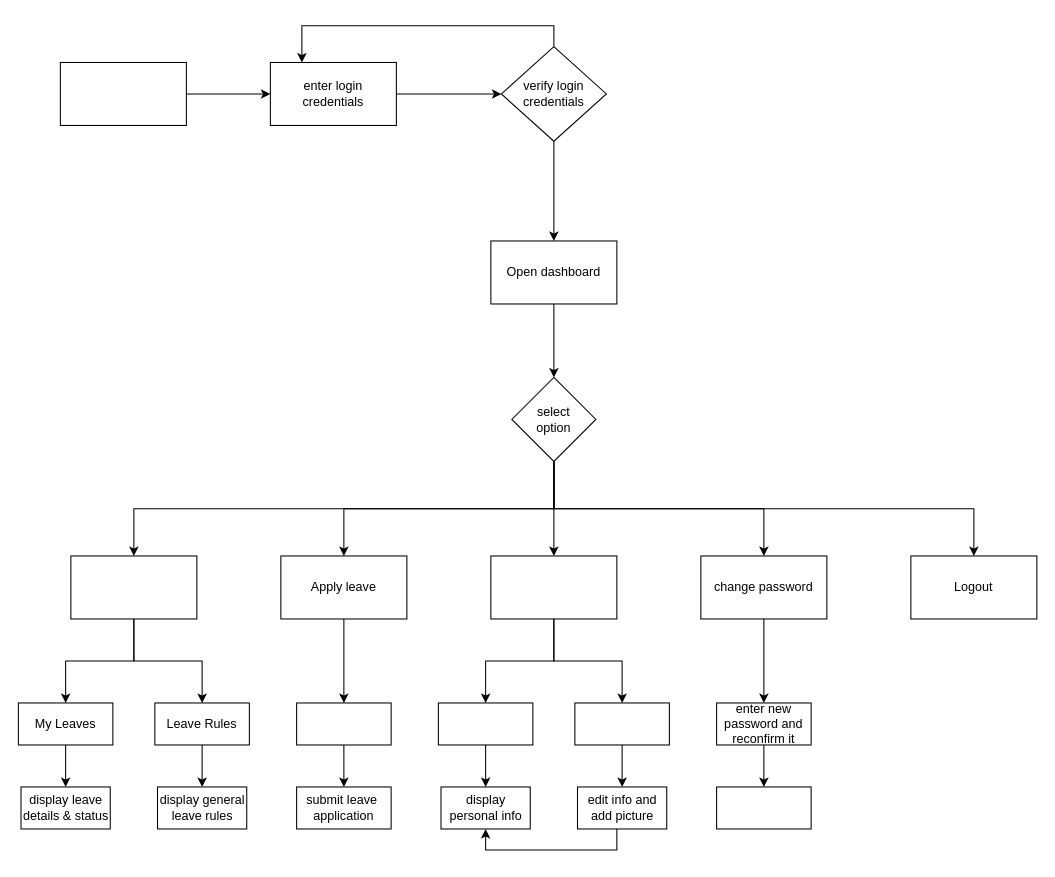
This 1055x877 diagram has some shape labels left out. The shapes that lost their labels are listed below. From the top down, each one's centre as x and y in pixels, then its label:
At point (122, 93): "Open login page".
At point (133, 587): "Leaves".
At point (553, 587): "Profile".
At point (343, 723): "enter leave details".
At point (485, 723): "overview".
At point (621, 723): "personal info".
At point (763, 807): "password updated".
